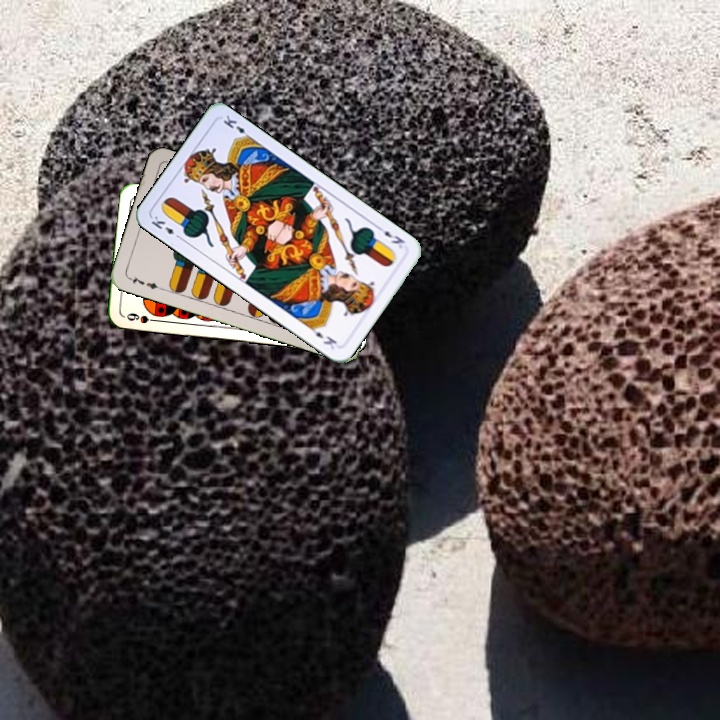E7: (125, 273, 164, 292)
EK: (147, 212, 184, 242), (373, 222, 407, 251)
S9: (122, 308, 162, 326)
